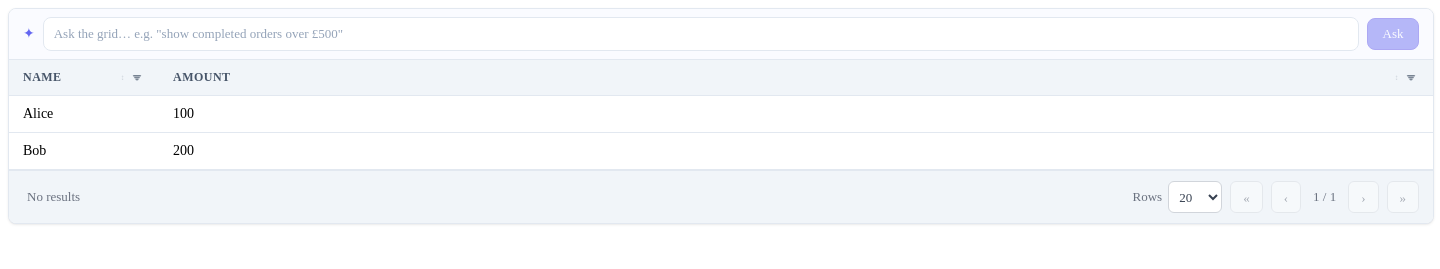
Test case: AiBar › shows explanation after a successful AI response
Type "amounts over 150" into the field named "AI grid command" at coordinates (701, 34), box [43,17,1359,51]
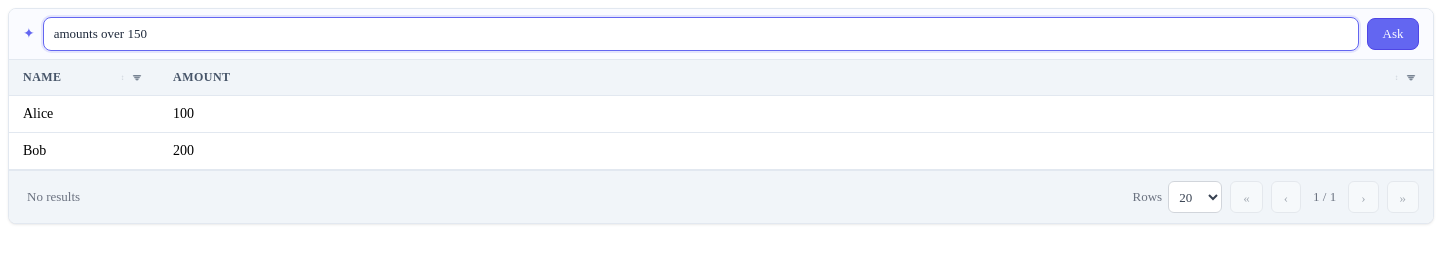
Click the button with aria-label "Send AI command" at coordinates (1393, 34), box [1367,18,1419,50]
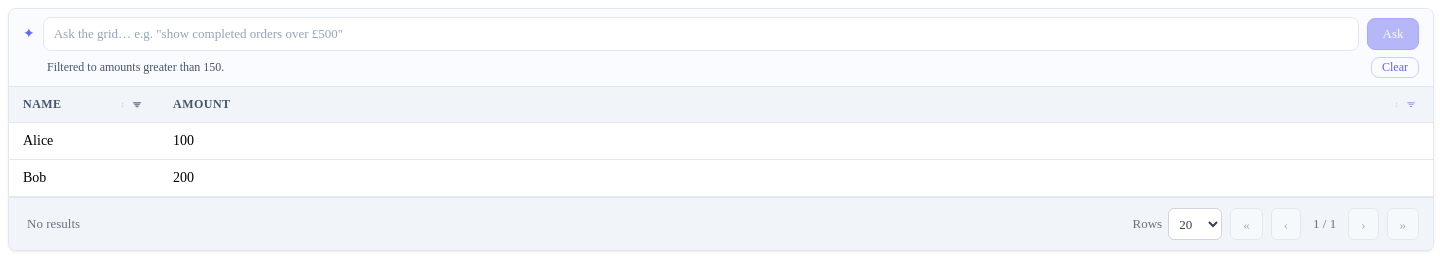
Expected: the message reads "Filtered to amounts greater than 150.", [47,60,224,74]
